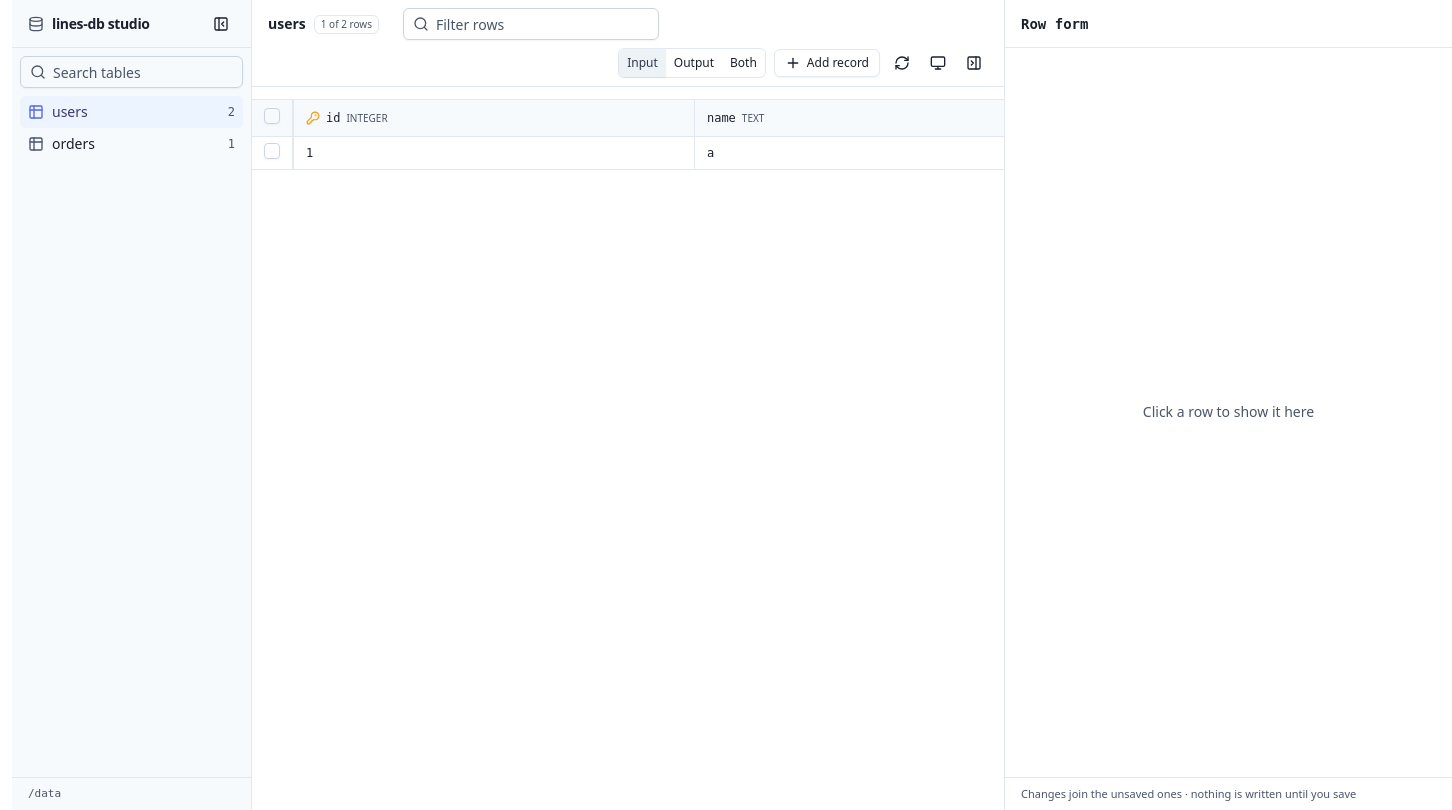
it: App › a table whose schema transforms a value › shows the value the file holds, which the cell edits
The width and height of the screenshot is (1452, 810).
Step 1. Click the button named "Edit name" → [711, 153], box [695,139,1004,167]
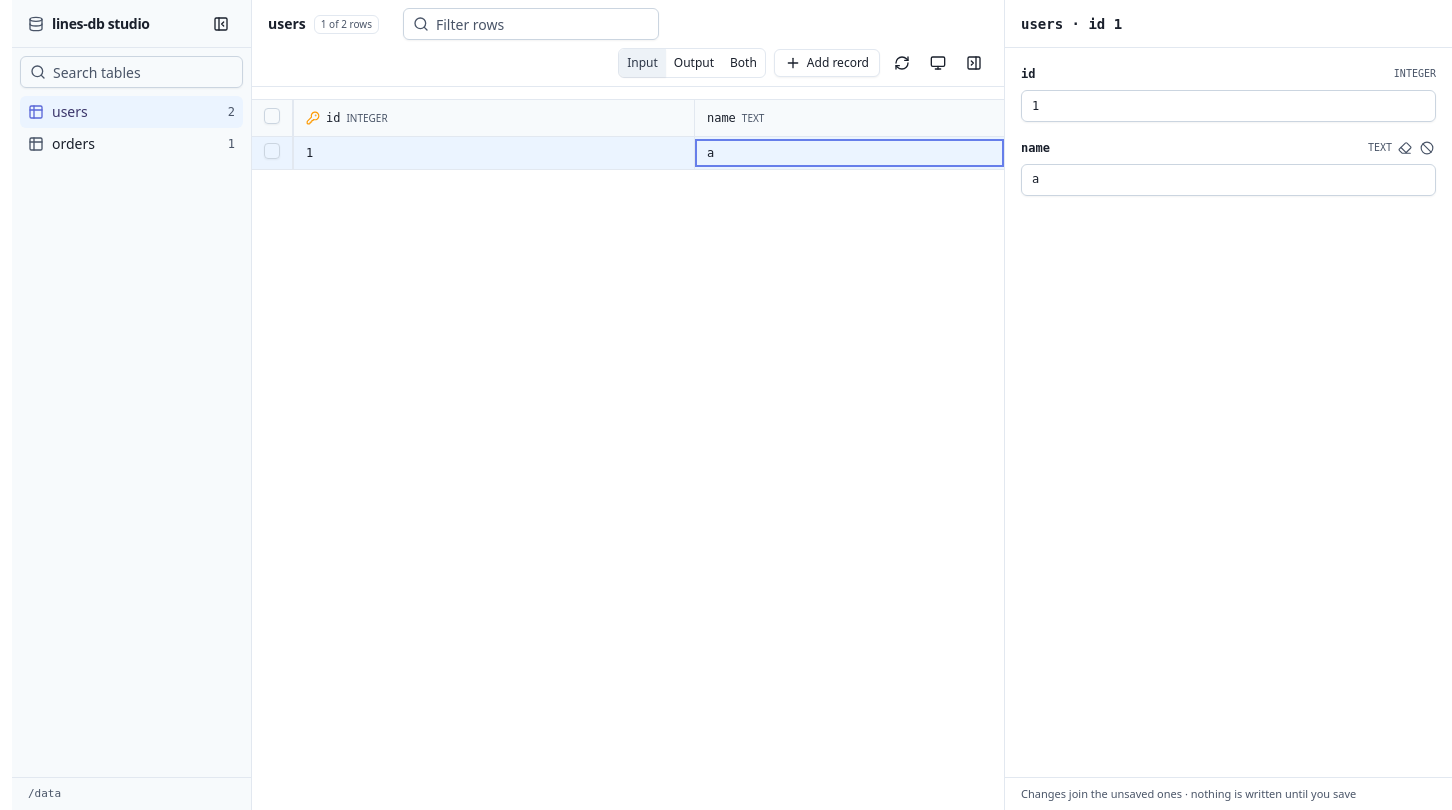
Check: the text box named "name" holds "a", box [1021,164,1436,196]
